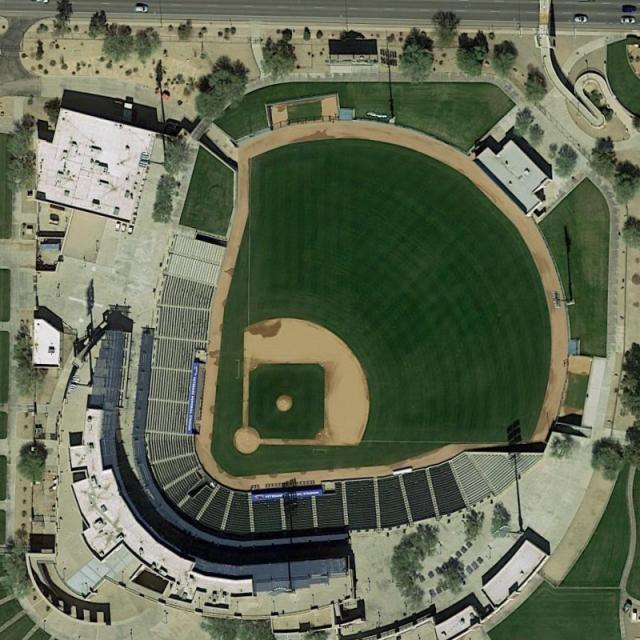vehicle: (620, 5, 638, 12), (574, 14, 588, 22), (620, 17, 636, 24), (134, 6, 149, 13), (30, 1, 49, 3)
